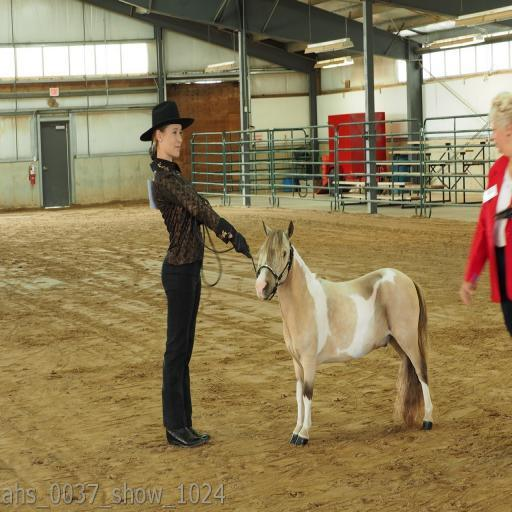Horse: (254, 219, 433, 444)
